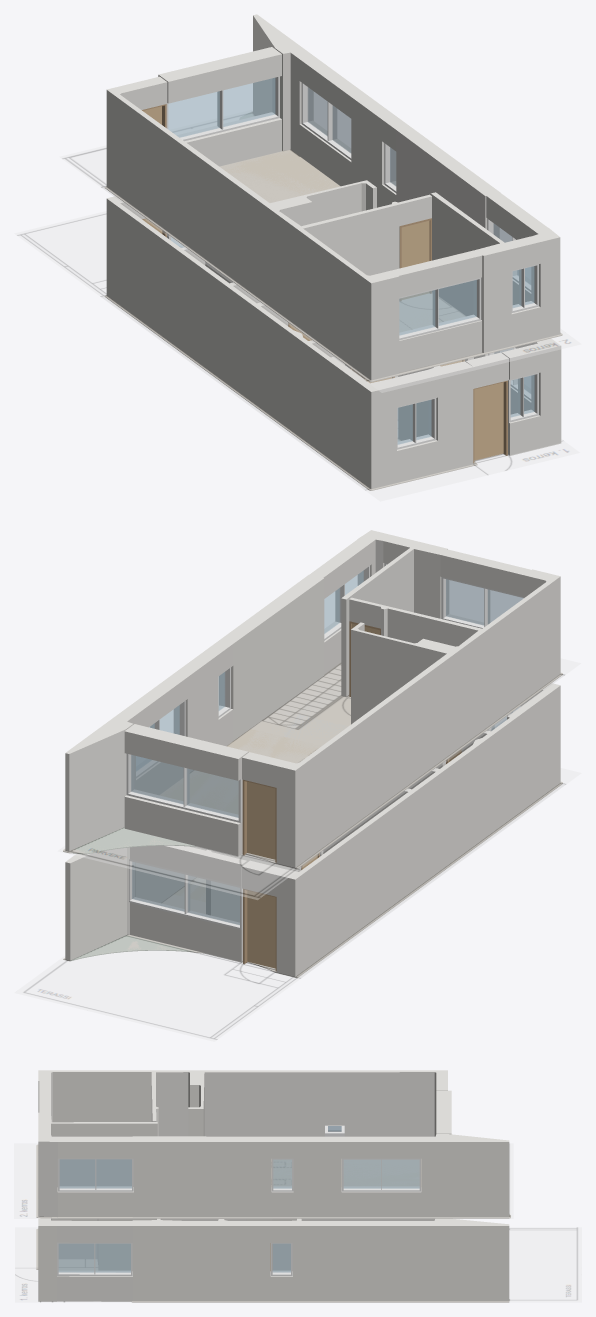
The picture shows the model from 3 angles, top to bottom: view 1: azimuth 30°, elevation 25°; view 2: azimuth 150°, elevation 25°; view 3: azimuth 270°, elevation 25°; orthographic projection. The views are drawn at different scales.
Parts seen in each view (by area): view 1: wall-r005-floor-2, wall-r005-floor-1, plan_floor-floor-2, plan_floor-floor-1, wall-r002-floor-2, wall-infill:window-002, wall-infill:window-010, wall-r003-floor-2, wall-r002-floor-1, floor-slab-floor-2, wall-r006-floor-2, window-002:glass (+27 smaller); view 2: wall-r005-floor-2, wall-r005-floor-1, plan_floor-floor-1, plan_floor-floor-2, wall-r003-floor-2, wall-infill:window-002, wall-r006-floor-1, floor-slab-floor-2, wall-r006-floor-2, wall-infill:window-001, wall-r002-floor-2, window-001:glass (+23 smaller); view 3: wall-r005-floor-2, wall-r006-floor-1, wall-r003-floor-1, wall-r003-floor-2, plan_floor-floor-1, wall-r006-floor-2, wall-r004-floor-2, wall-infill:window-003, wall-r002-floor-2, wall-infill:window-007, wall-infill:window-006, plan_floor-floor-2 (+19 smaller).
Boxes of the visible parts, left/top/right/bottom form: wall-r005-floor-2: left=106, top=84, right=400, bottom=380; wall-r005-floor-1: left=106, top=196, right=399, bottom=488; plan_floor-floor-2: left=60, top=145, right=580, bottom=392; plan_floor-floor-1: left=14, top=211, right=579, bottom=501; wall-r002-floor-2: left=430, top=192, right=512, bottom=352; wall-infill:window-002: left=158, top=47, right=281, bottom=166; wall-infill:window-010: left=391, top=250, right=481, bottom=372; wall-r003-floor-2: left=396, top=126, right=499, bottom=238; wall-r002-floor-1: left=395, top=361, right=473, bottom=472; floor-slab-floor-2: left=104, top=111, right=562, bottom=382; wall-r006-floor-2: left=253, top=14, right=314, bottom=156; window-002:glass: left=168, top=78, right=275, bottom=137; wall-r005-floor-2: left=275, top=569, right=560, bottom=867; wall-r005-floor-1: left=276, top=683, right=560, bottom=977; plan_floor-floor-1: left=15, top=768, right=581, bottom=1041; plan_floor-floor-2: left=58, top=658, right=580, bottom=899; wall-r003-floor-2: left=219, top=574, right=324, bottom=740; wall-infill:window-002: left=124, top=724, right=248, bottom=856; wall-r006-floor-1: left=65, top=846, right=206, bottom=960; floor-slab-floor-2: left=63, top=663, right=562, bottom=868; wall-r006-floor-2: left=65, top=711, right=136, bottom=851; wall-infill:window-001: left=130, top=845, right=247, bottom=962; wall-r002-floor-2: left=341, top=541, right=447, bottom=696; window-001:glass: left=132, top=862, right=239, bottom=924; wall-r005-floor-2: left=38, top=1070, right=447, bottom=1136; wall-r006-floor-1: left=272, top=1218, right=509, bottom=1301; wall-r003-floor-1: left=98, top=1218, right=271, bottom=1301; wall-r003-floor-2: left=132, top=1136, right=271, bottom=1217; plan_floor-floor-1: left=15, top=1227, right=581, bottom=1302; wall-r006-floor-2: left=420, top=1134, right=509, bottom=1217; wall-r004-floor-2: left=292, top=1136, right=341, bottom=1217; wall-infill:window-003: left=342, top=1136, right=420, bottom=1217; wall-r002-floor-2: left=38, top=1112, right=157, bottom=1186; wall-infill:window-007: left=58, top=1136, right=132, bottom=1216; wall-infill:window-006: left=57, top=1220, right=132, bottom=1301; plan_floor-floor-2: left=14, top=1143, right=513, bottom=1218.
Size of the model in its own units: 5.81 by 5.7 by 18.35.
16 materials, 2 textured.
